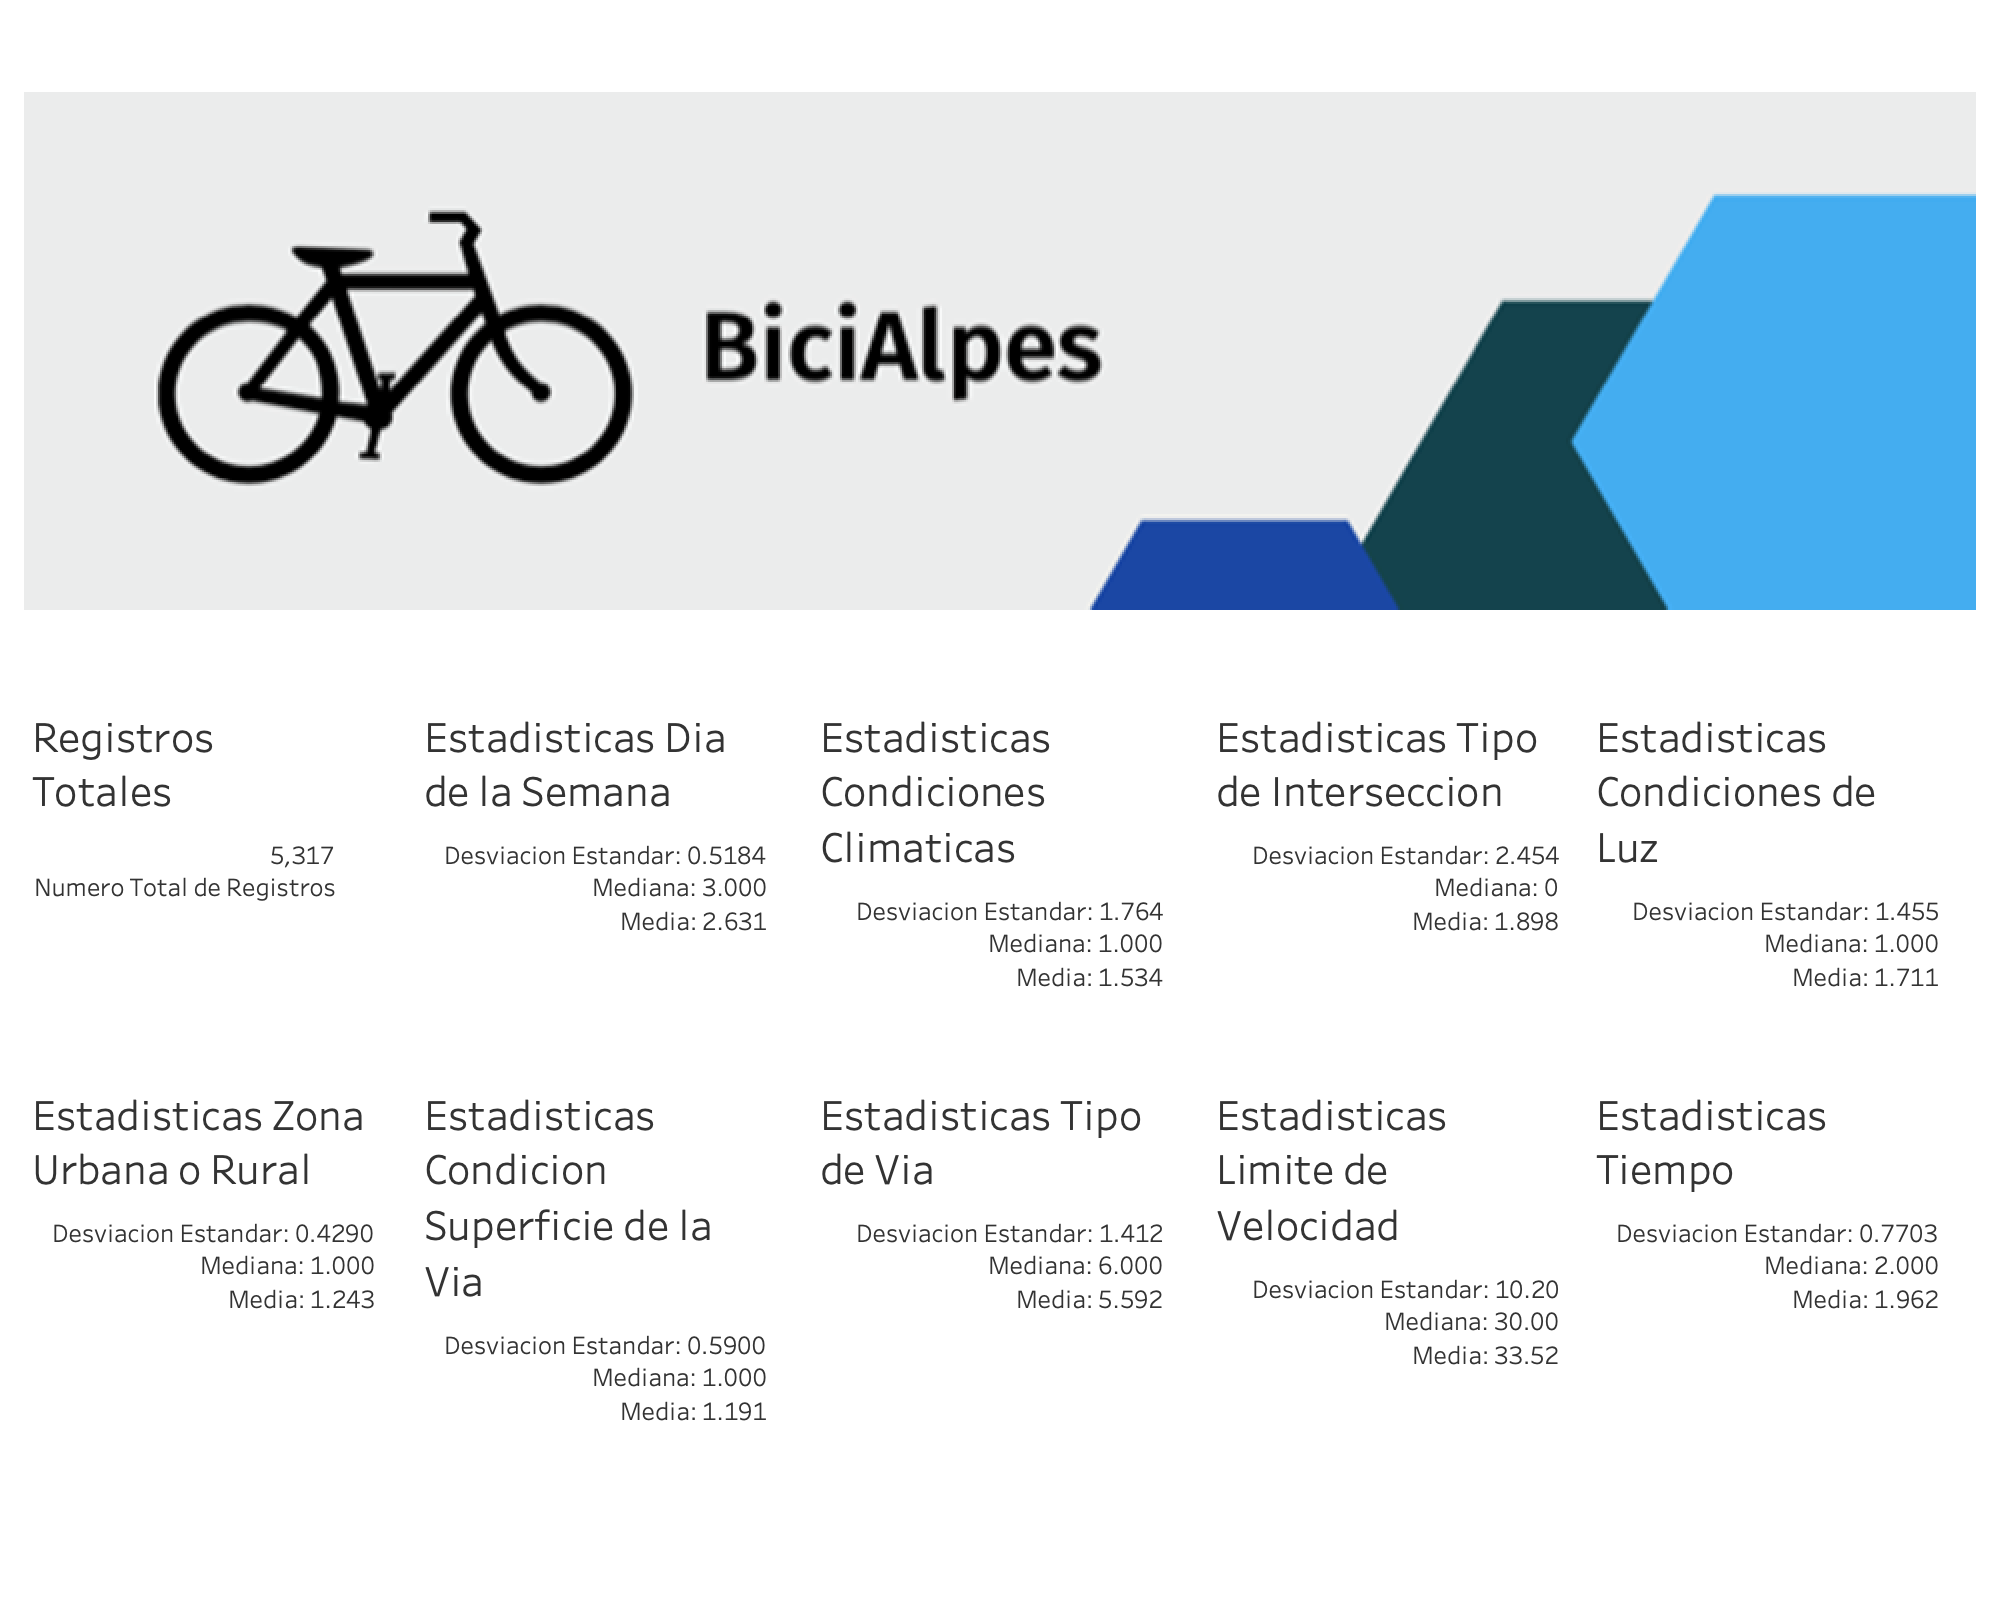

What the dashboard file says about the page in this screenshot:
{"tool":"tableau","page":{"name":"BiciAlpes","canvas":[1000,800],"ordinal":0},"visuals":[{"type":"image","param":"/Users/estebangonzalezruales/Library/CloudStorage/OneDrive-UniversidaddelosAndes","box":[8,8,984,336]},{"type":"worksheet","title":"Registros Totales","mark":"Automatic","box":[8,344,196,189]},{"type":"worksheet","title":"Estadisticas Dia de la Semana","mark":"Automatic","box":[204,344,198,189]},{"type":"worksheet","title":"Estadisticas Condiciones Climaticas","mark":"Automatic","box":[402,344,198,189]},{"type":"worksheet","title":"Estadisticas Tipo de Interseccion","mark":"Automatic","box":[600,344,190,189]},{"type":"worksheet","title":"Estadisticas Condiciones de Luz","mark":"Automatic","box":[790,344,202,189]},{"type":"worksheet","title":"Estadisticas Zona Urbana o Rural","mark":"Automatic","box":[8,533,196,259]},{"type":"worksheet","title":"Estadisticas Condicion Superficie de la Via","mark":"Automatic","box":[204,533,198,259]},{"type":"worksheet","title":"Estadisticas Tipo de Via","mark":"Automatic","box":[402,533,198,259]},{"type":"worksheet","title":"Estadisticas Limite de Velocidad","mark":"Automatic","box":[600,533,190,259]},{"type":"worksheet","title":"Estadisticas Tiempo","mark":"Automatic","box":[790,533,202,259]}]}

Visuals, with their boxes in screenshot pixels (x1, y1, x2, y2), scaled from the page's 1000x800 canvas onto the 2000x1600 screenshot:
image: x1=16 y1=16 x2=1984 y2=688
"Registros Totales" worksheet: x1=16 y1=688 x2=408 y2=1066
"Estadisticas Dia de la Semana" worksheet: x1=408 y1=688 x2=804 y2=1066
"Estadisticas Condiciones Climaticas" worksheet: x1=804 y1=688 x2=1200 y2=1066
"Estadisticas Tipo de Interseccion" worksheet: x1=1200 y1=688 x2=1580 y2=1066
"Estadisticas Condiciones de Luz" worksheet: x1=1580 y1=688 x2=1984 y2=1066
"Estadisticas Zona Urbana o Rural" worksheet: x1=16 y1=1066 x2=408 y2=1584
"Estadisticas Condicion Superficie de la Via" worksheet: x1=408 y1=1066 x2=804 y2=1584
"Estadisticas Tipo de Via" worksheet: x1=804 y1=1066 x2=1200 y2=1584
"Estadisticas Limite de Velocidad" worksheet: x1=1200 y1=1066 x2=1580 y2=1584
"Estadisticas Tiempo" worksheet: x1=1580 y1=1066 x2=1984 y2=1584
